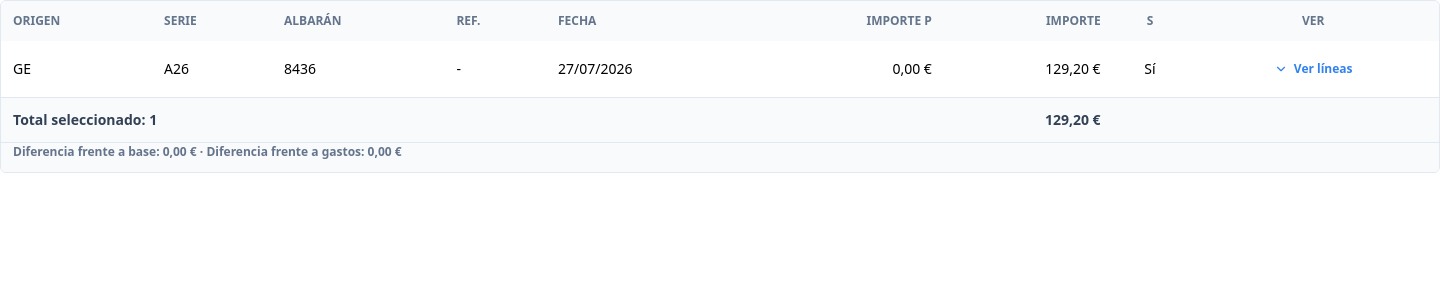
Test case: FacturaPunteosTable › carga el detalle por AEN y lo expande como grid dentro de una única tabla
Click the button "Ver líneas" at (1313, 69), box [1266, 53, 1360, 85]
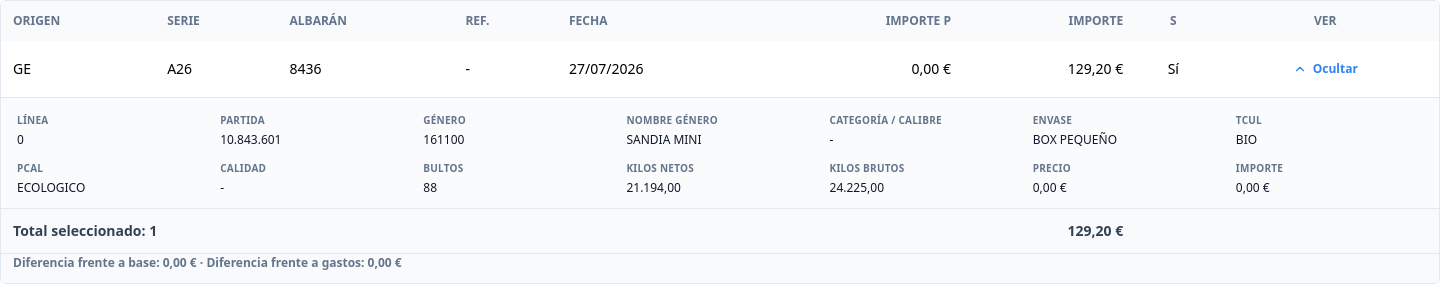
Check: the text "SANDIA MINI" is shown, box [626, 131, 702, 148]
Check: the text "10.843.601" is shown, box [220, 131, 282, 148]
Check: the text "BIO" is shown, box [1236, 131, 1257, 148]
Click the button "Ocultar" at (1325, 69), box [1285, 53, 1366, 85]
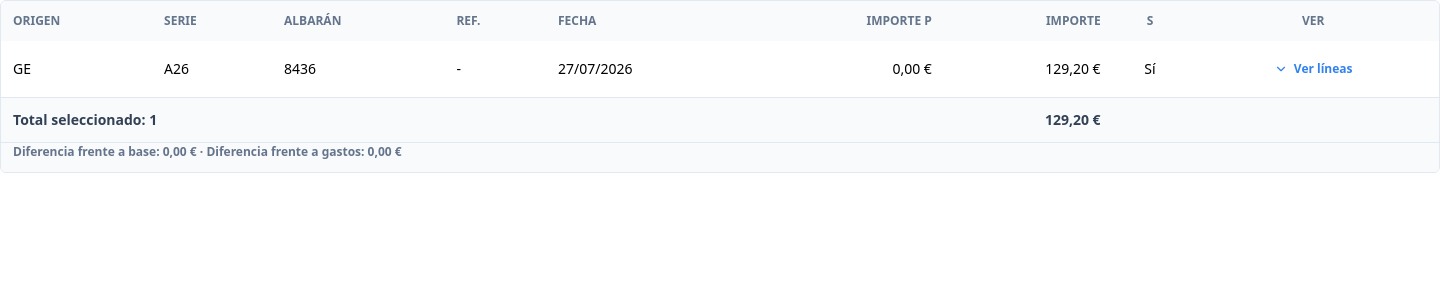
Check: the text "SANDIA MINI" is gone
Click the button "Ver líneas" at (1313, 69), box [1266, 53, 1360, 85]
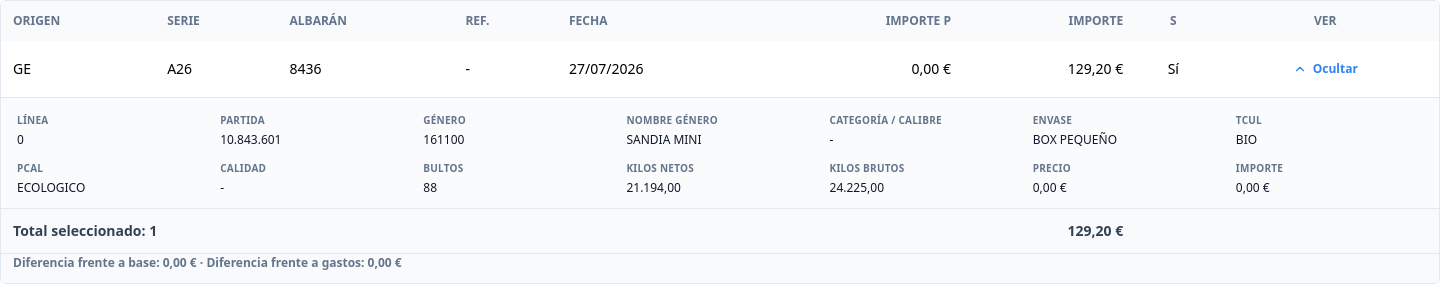
Check: the text "SANDIA MINI" is shown, box [626, 131, 702, 148]
